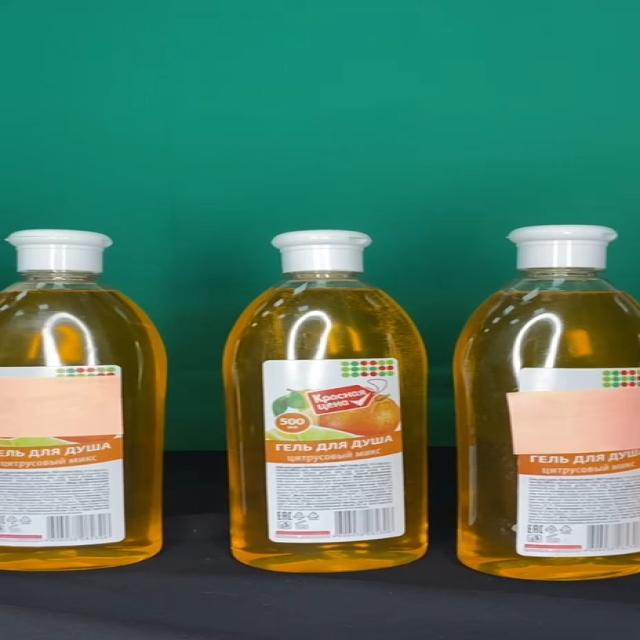Bottle: (224, 230, 429, 572), (455, 226, 640, 582), (0, 230, 169, 571)
Cap: (507, 226, 618, 268), (5, 230, 113, 272), (270, 230, 373, 272)
